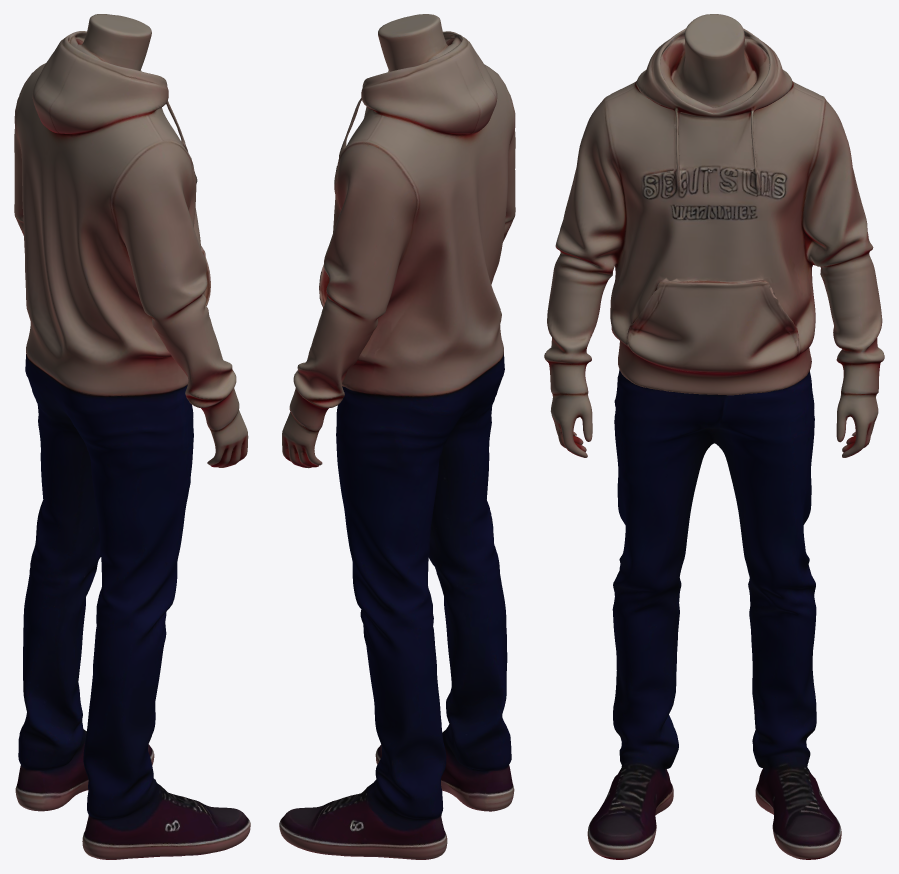
File: luma_venice_shop_environment_model_fbx.fbx
3 views of the same model, side by side, from view 1: azimuth 30°, elevation 25°; view 2: azimuth 150°, elevation 25°; view 3: azimuth 270°, elevation 25° (orthographic).
Parts seen in each view (by area): view 1: mesh_d586; view 2: mesh_d586; view 3: mesh_d586.
Part boxes in pixels (<box>): mesh_d586: <box>14,14,250,859</box>; mesh_d586: <box>279,14,515,859</box>; mesh_d586: <box>544,14,884,859</box>.
Size of the model in its own units: 0.2494 by 1.2 by 0.4636.
1 material, 1 textured.
